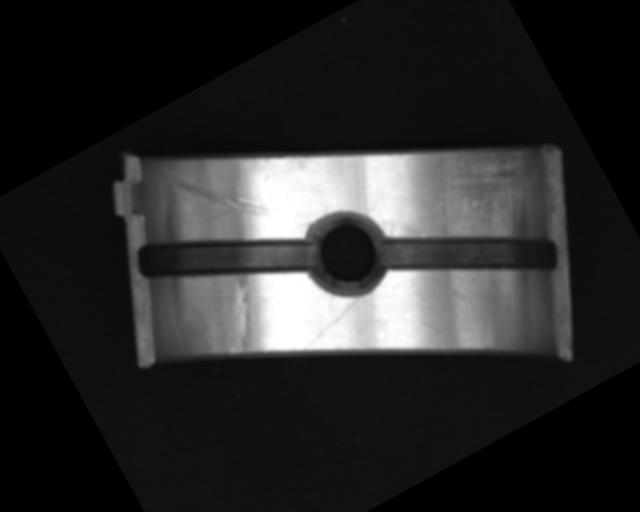gap: (375, 170, 565, 338), (131, 178, 318, 339)
hole: (288, 195, 405, 313)
nick: (159, 129, 269, 247), (199, 274, 277, 360), (292, 295, 370, 352)
scratch: (402, 109, 566, 266)
